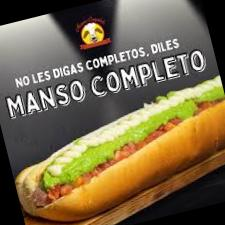Completos: (9, 73, 225, 225)
